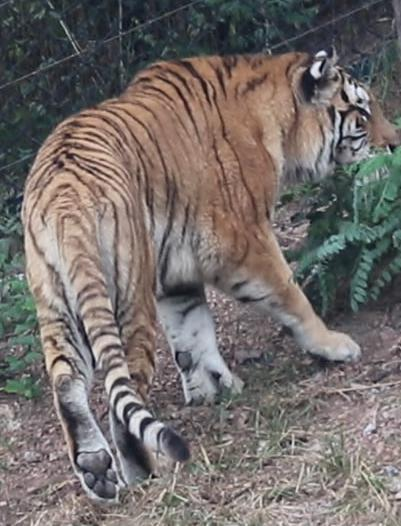tiger: (21, 49, 400, 501)
